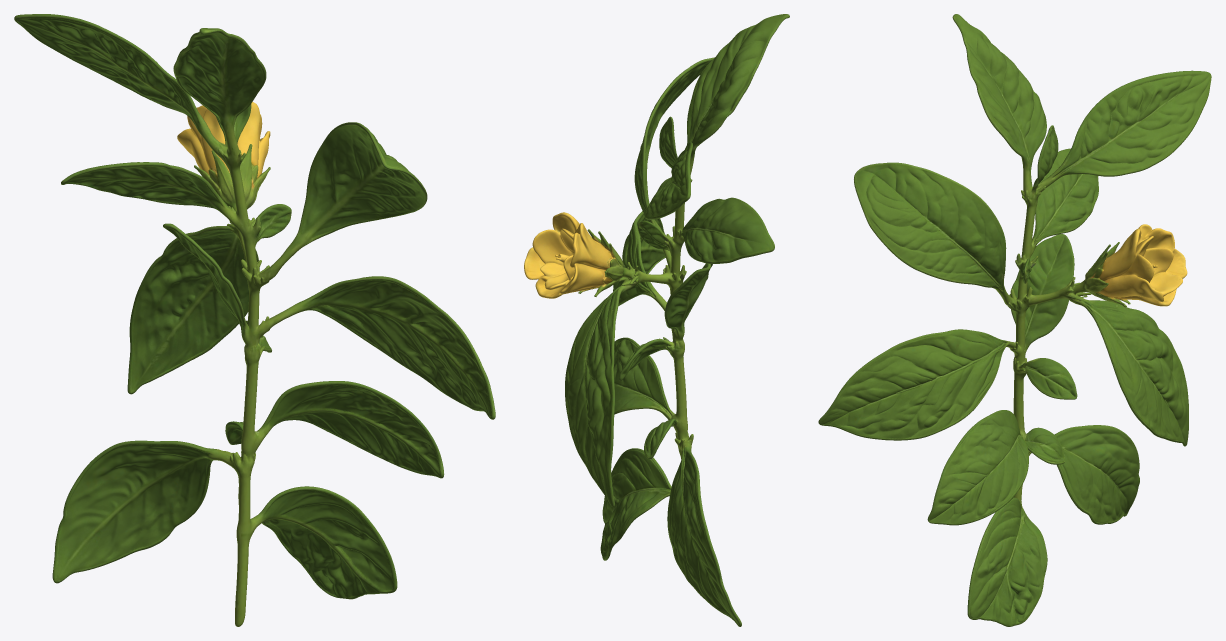
File: pachystachys_lutea.fbx
The picture shows the model from 3 angles, left to right: view 1: azimuth 30°, elevation 25°; view 2: azimuth 150°, elevation 25°; view 3: azimuth 270°, elevation 25°; orthographic projection. The views are drawn at different scales.
Parts seen in each view (by area): view 1: tripo_node_7aba0779; view 2: tripo_node_7aba0779; view 3: tripo_node_7aba0779.
Boxes of the visible parts, box(x1,y1,x2,y2) form: tripo_node_7aba0779: box(14, 14, 495, 626); tripo_node_7aba0779: box(524, 14, 789, 626); tripo_node_7aba0779: box(818, 14, 1211, 626).
Size of the model in its own units: 50.26 by 106 by 69.99.
Materials: 1 (1 with a texture image).
